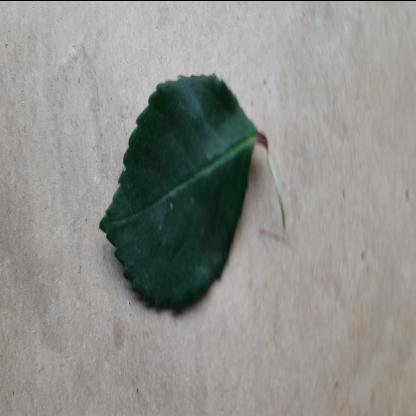normal: (97, 62, 259, 320)
